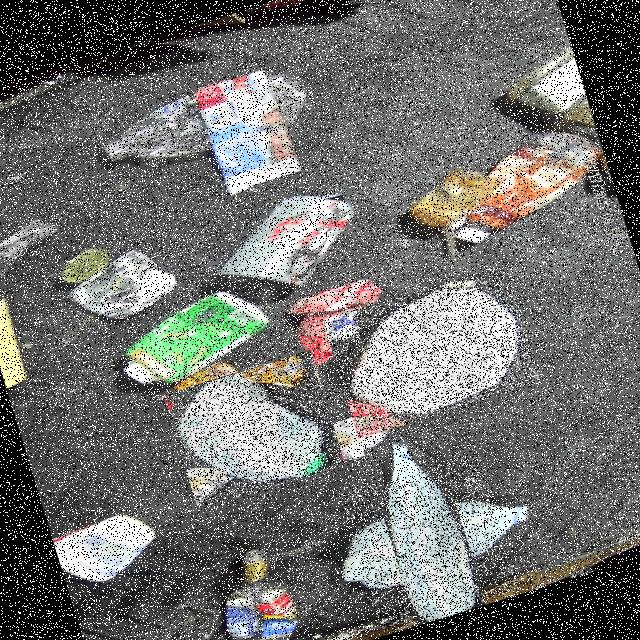milk-jug: (321, 262, 541, 438), (338, 450, 520, 630), (162, 348, 344, 508)
